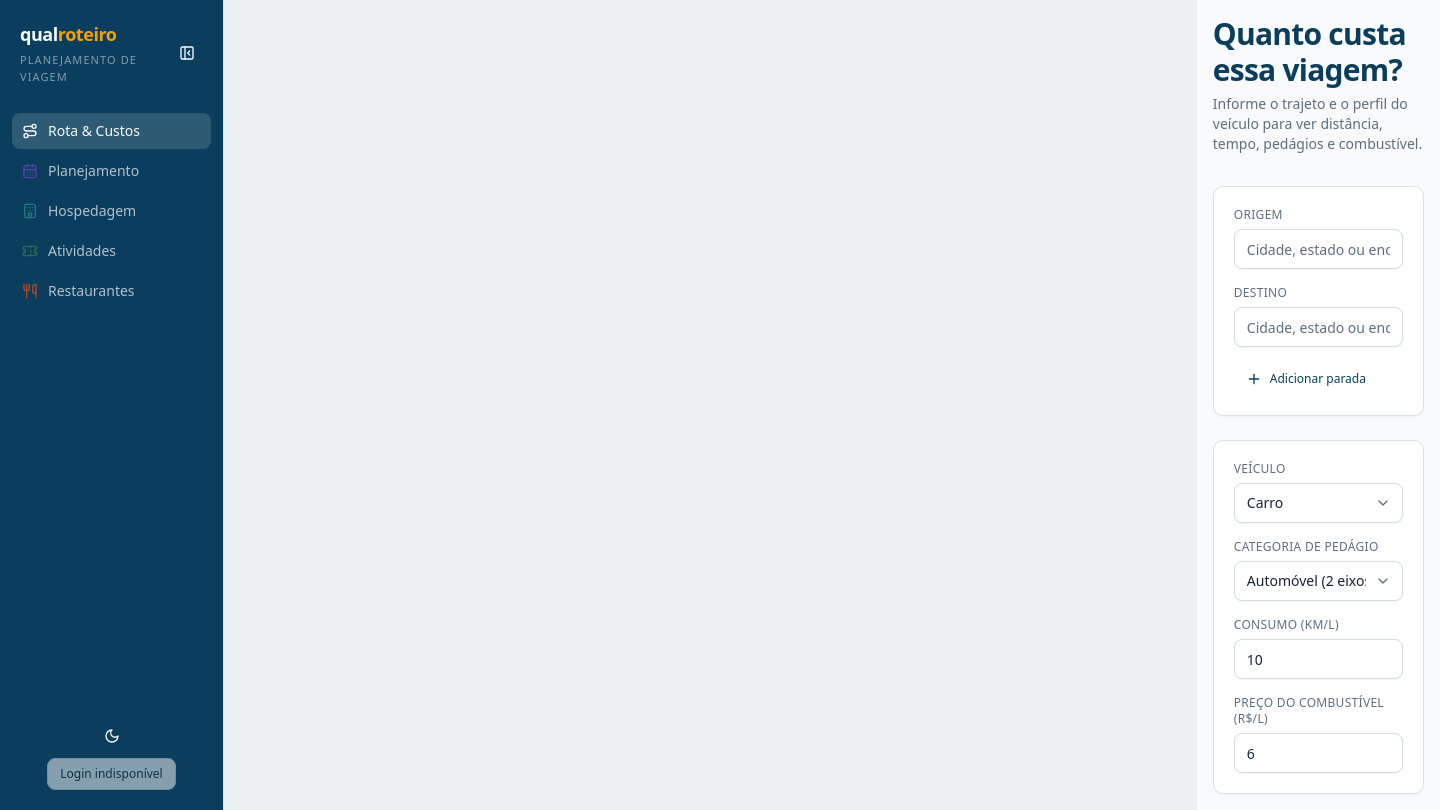
Test: Tela 3 — detalhe da praça › opens the same drawer when the plaza marker on the map is clicked
The width and height of the screenshot is (1440, 810).
Type "São Paulo, SP" into the dropdown labelled "Origem".
click(1318, 249); type("São Paulo, SP")  # box [1234, 229, 1403, 269]
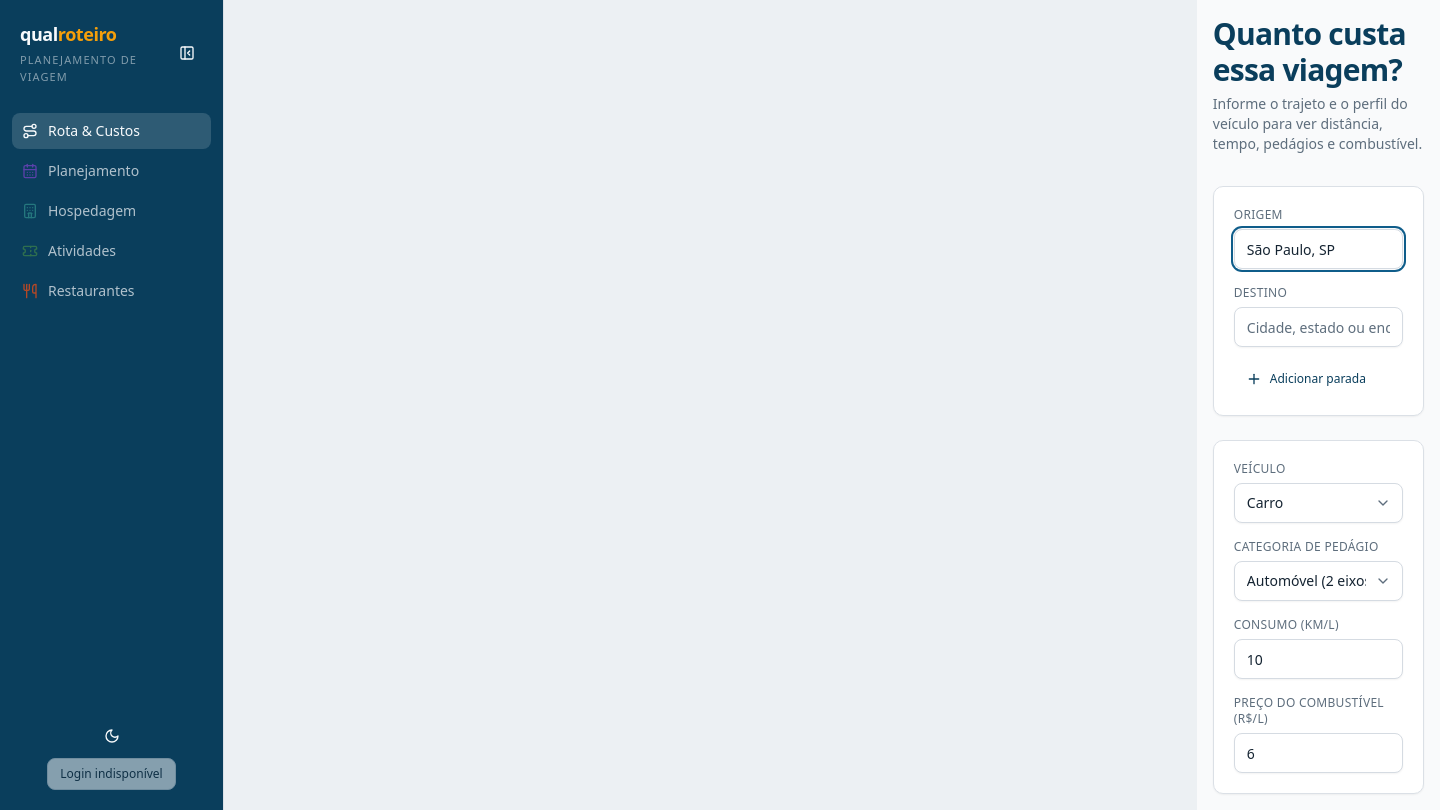
Type "Rio de Janeiro, RJ" into the dropdown labelled "Destino".
click(1318, 327); type("Rio de Janeiro, RJ")  # box [1234, 307, 1403, 347]
(page scrolled)
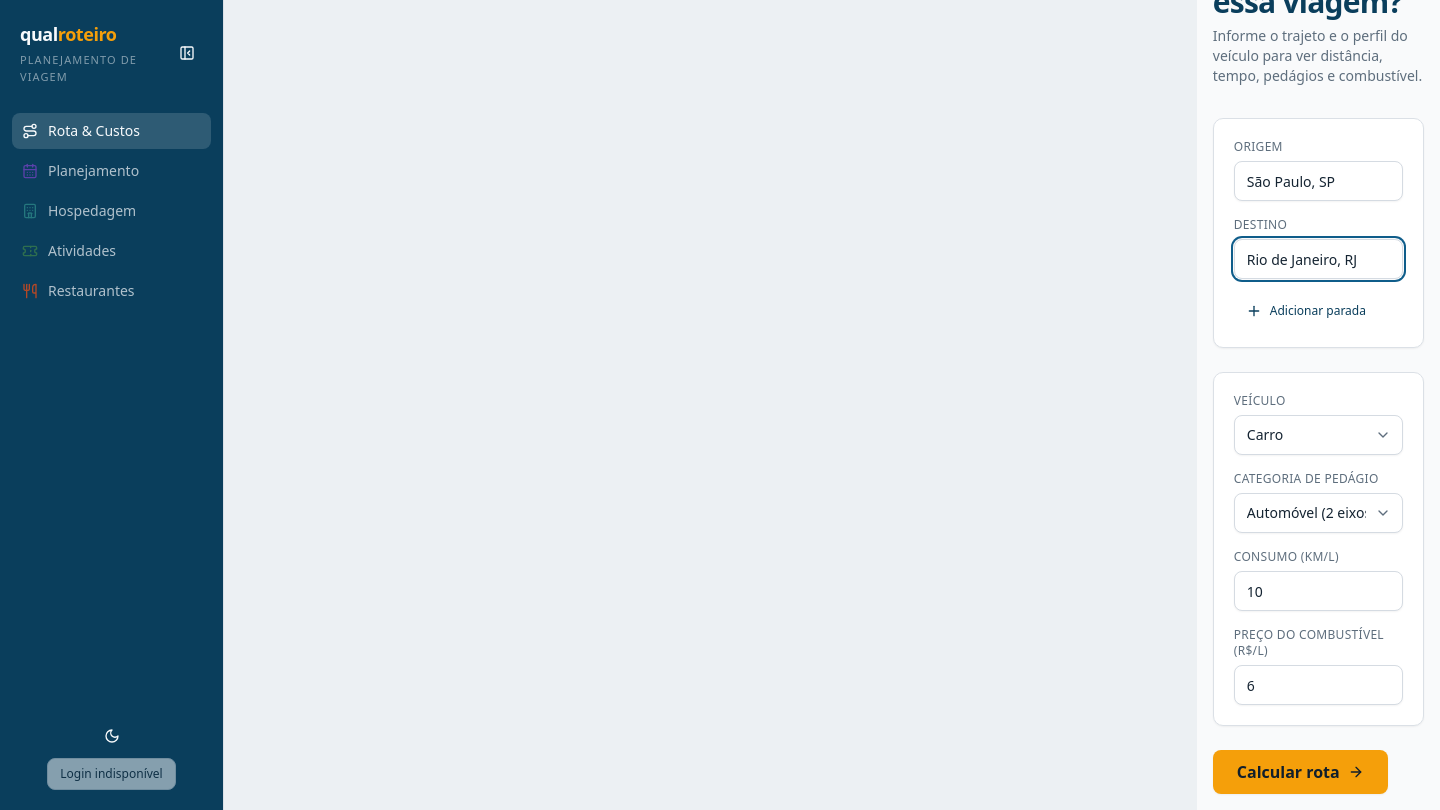
Click the button "Calcular rota".
click(1300, 772)  # box [1213, 750, 1388, 794]
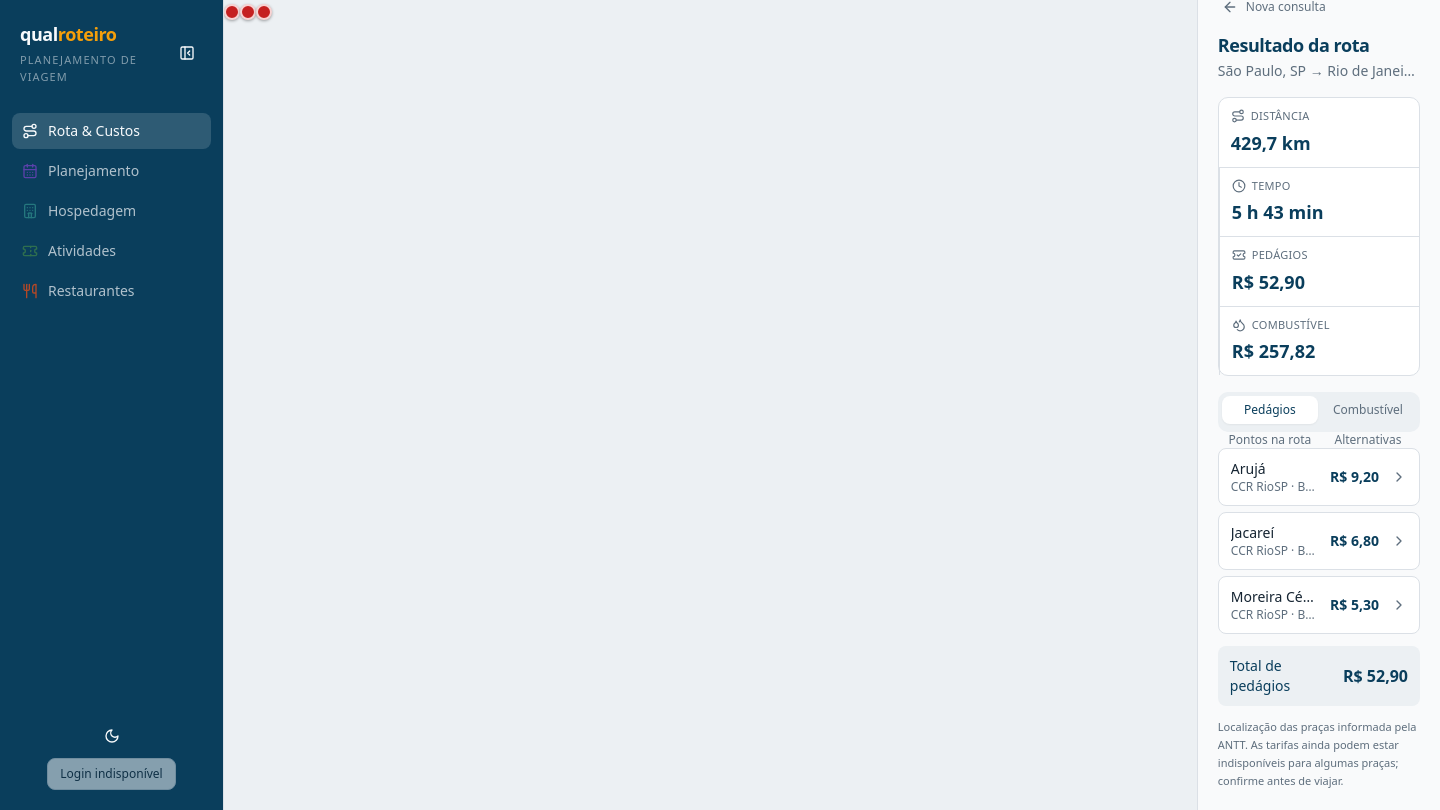
Check: the heading "Resultado da rota" is shown, box [1218, 33, 1369, 57]
Click the button named "Arujá".
click(232, 12)  # box [224, 4, 240, 20]
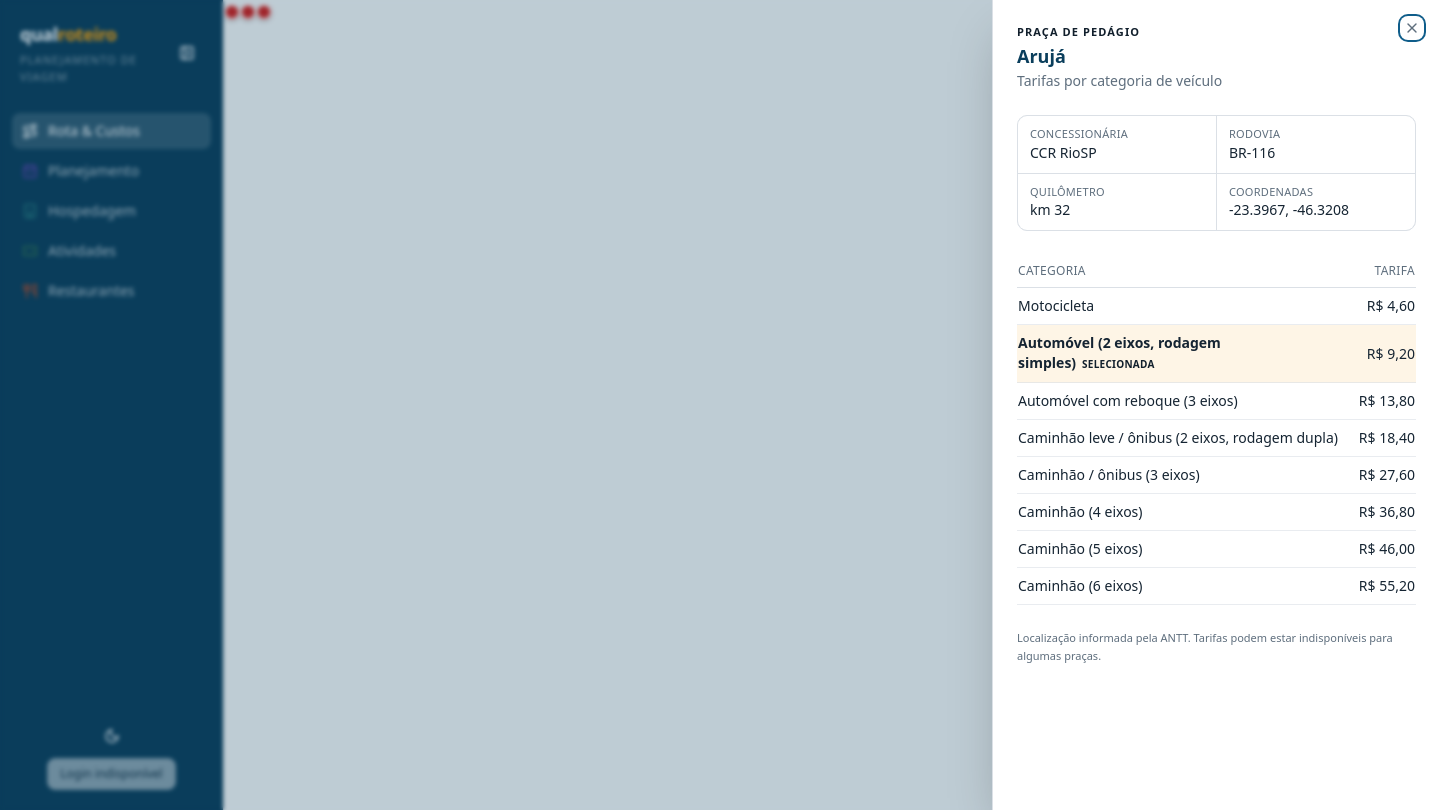
Check: the heading "Arujá" is shown, box [1017, 44, 1066, 68]
